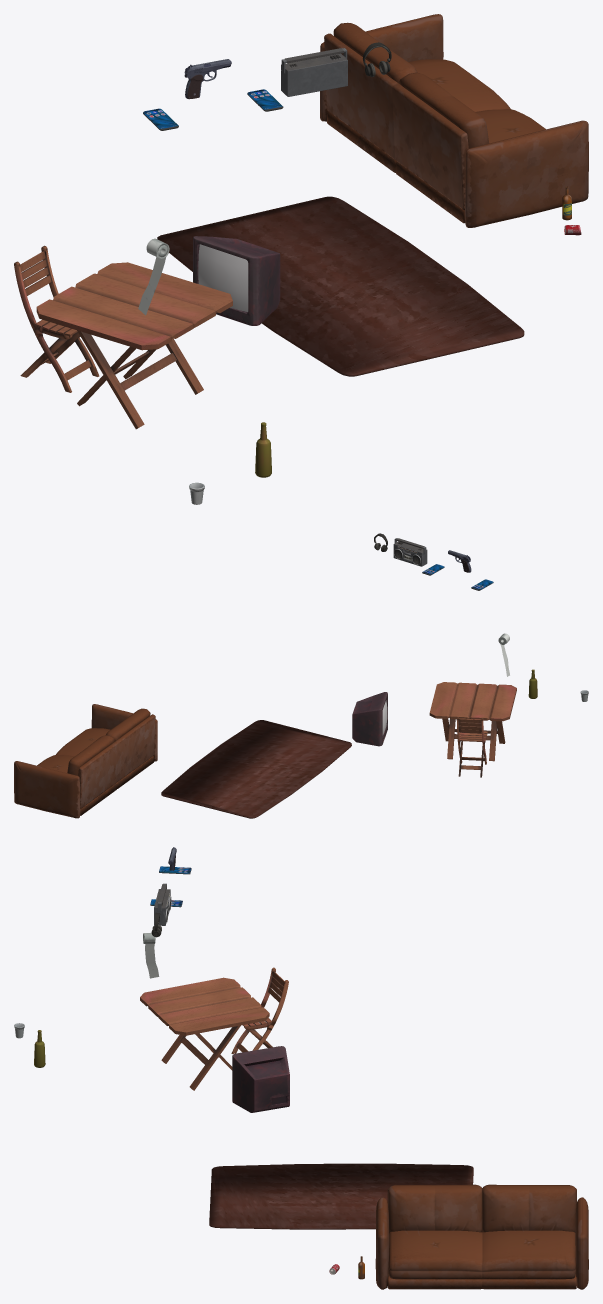
The model's file is Itens_Andar_2.fbx.
3 renders of one model, top to bottom at view 1: azimuth 30°, elevation 25°; view 2: azimuth 150°, elevation 25°; view 3: azimuth 270°, elevation 25°, orthographic. The views are drawn at different scales.
Visible parts, largest first — view 1: Cube.001, Tapete.002, Mesa.002, Tv.001, Plane.010, BoomBox.001, Tv.002, Cylinder.002, Pistola.001, Cerveja.001; view 2: Tapete.002, Cube.001, Mesa.002, Tv.001, Plane.010, BoomBox.001; view 3: Cube.001, Tapete.002, Mesa.002, Tv.001, Plane.010.
Part boxes in pixels (box(x1,y1,x2,y2)): Cube.001: box(320, 14, 588, 227); Tapete.002: box(157, 196, 524, 376); Mesa.002: box(36, 262, 232, 429); Tv.001: box(193, 236, 280, 325); Plane.010: box(14, 245, 99, 392); BoomBox.001: box(281, 48, 347, 96); Tv.002: box(198, 244, 248, 311); Cylinder.002: box(138, 238, 169, 315); Pistola.001: box(184, 59, 231, 99); Cerveja.001: box(255, 422, 271, 477); Tapete.002: box(161, 720, 351, 818); Cube.001: box(14, 704, 157, 818); Mesa.002: box(429, 682, 516, 761); Tv.001: box(352, 692, 387, 746); Plane.010: box(456, 716, 487, 777); BoomBox.001: box(393, 538, 427, 566); Cube.001: box(375, 1184, 588, 1289); Tapete.002: box(209, 1163, 473, 1229); Mesa.002: box(140, 977, 269, 1090); Tv.001: box(232, 1046, 289, 1112); Plane.010: box(231, 967, 288, 1053).
Size of the model in its own units: 1426 by 777 by 1558.
